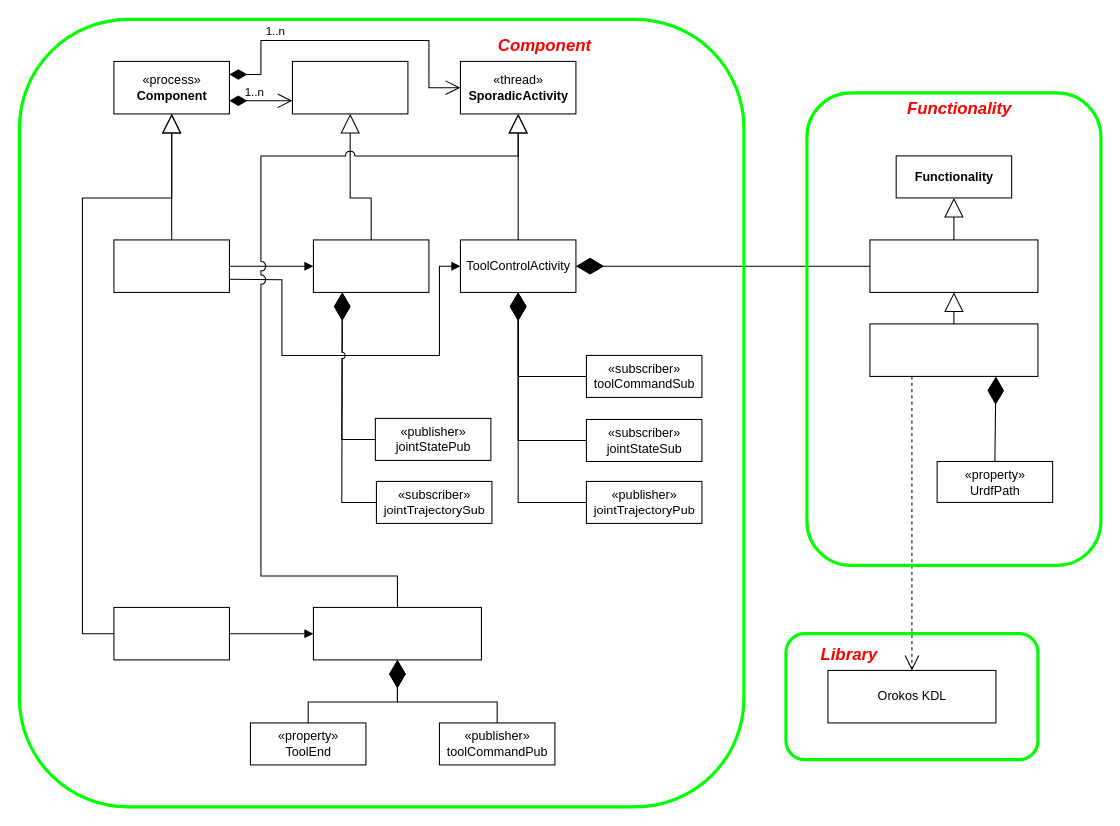
The diagram is 1120 pixels wide and 826 high, and some of its shapes have lost their labels. Here are the shapes that lost their labels. From the top down, the centre of each, then its label:
At (349,87): "«thread» PeriodicActivity".
At (171,265): "ArmDriver".
At (370,265): "JointControlActivity".
At (953,265): "ArmKinematicsInterface".
At (953,349): "PluginArmPRob3Kinematics".
At (171,633): "ToolInput".
At (396,633): "ToolInputCommandActivity".
